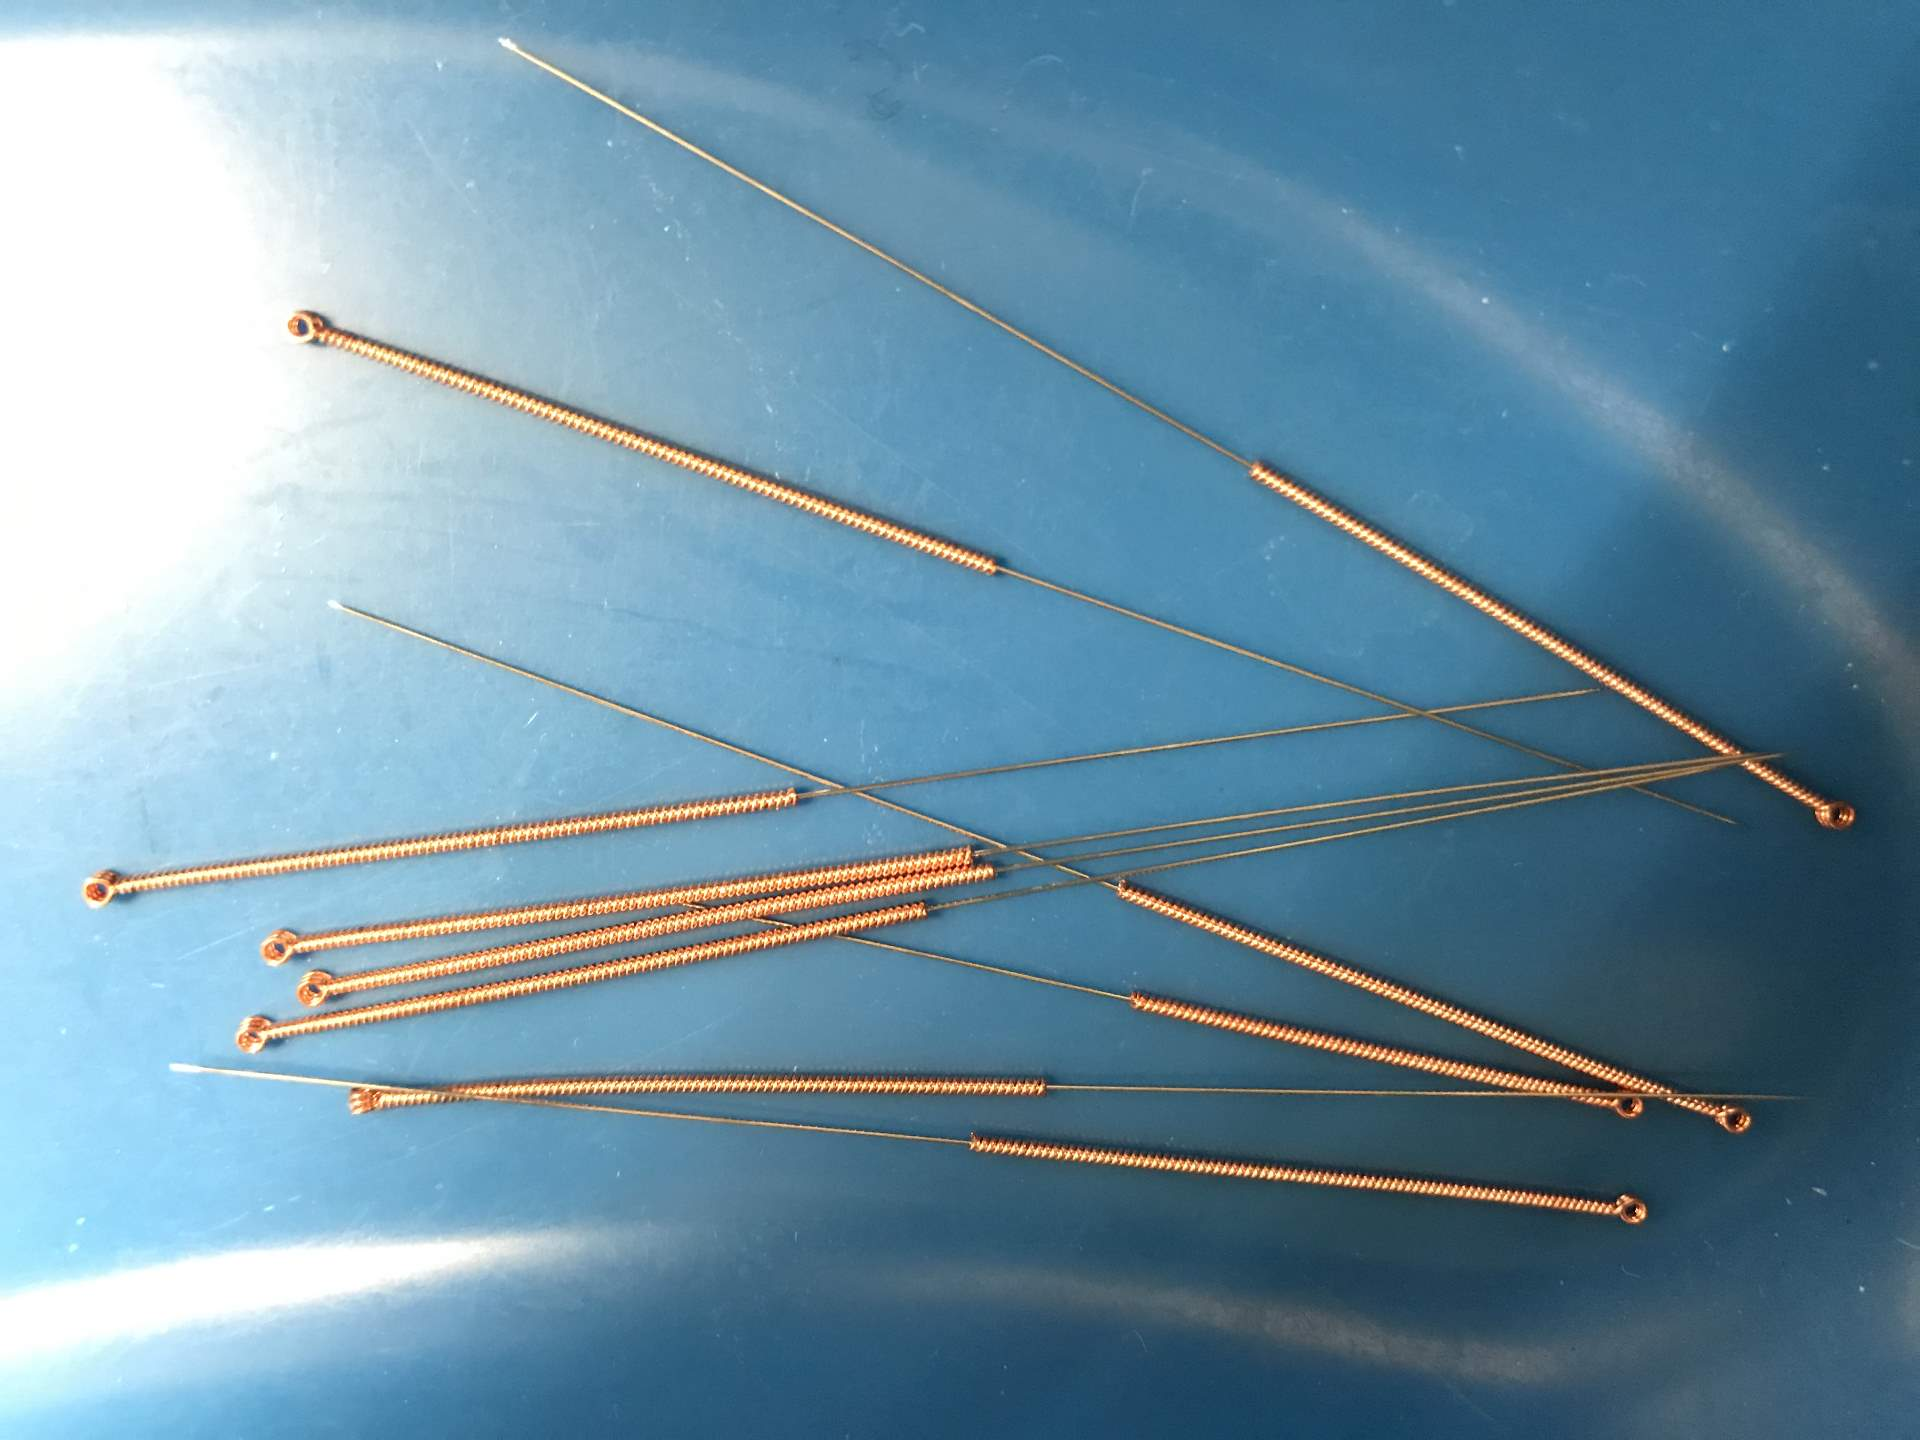needle: (1791, 774, 1870, 849), (271, 293, 346, 369), (1693, 1083, 1766, 1154), (215, 1001, 287, 1071), (68, 852, 135, 927), (330, 1069, 401, 1134), (1598, 1178, 1658, 1242), (243, 921, 310, 976), (281, 964, 346, 1013), (1590, 1083, 1642, 1136)
